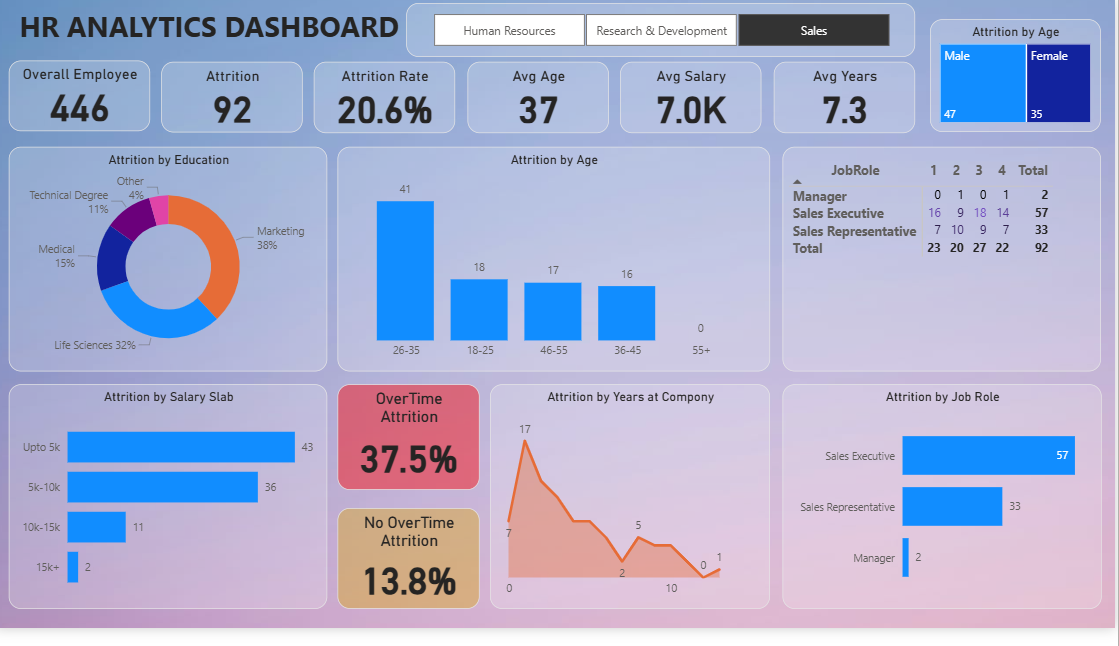

What the dashboard file says about the page in this screenshot:
{"tool":"powerbi","page":{"name":"Page 1","canvas":[1280,720],"ordinal":0},"visuals":[{"type":"card","title":"Overall Employee","fields":{"Values":["Count(HR_Analytics.EmpID)"]},"box":[15.8,71.6,161.9,81],"z":0},{"type":"card","title":"Attrition","fields":{"Values":["Sum(HR_Analytics.Attrition Count)"]},"box":[190.1,72.9,161.9,81],"z":1000},{"type":"card","title":"Attrition Rate","fields":{"Values":["HR_Analytics.AttritionRate"]},"box":[365,72.7,161.9,81.2],"z":2000},{"type":"card","title":"Avg Age","fields":{"Values":["Avg(HR_Analytics.Age)"]},"box":[540.6,72.7,161.9,81.2],"z":3000},{"type":"card","title":"Avg Salary","fields":{"Values":["Avg(HR_Analytics.MonthlyIncome)"]},"box":[715,72.7,161.9,81.2],"z":4000},{"type":"card","title":"Avg Years","fields":{"Values":["Avg(HR_Analytics.YearsAtCompany)"]},"box":[890,72.7,161.9,81.2],"z":5000},{"type":"donutChart","title":"Attrition by Education","fields":{"Category":["HR_Analytics.EducationField"],"Y":["Sum(HR_Analytics.Attrition Count)"]},"box":[15.7,170,364.3,257.1],"z":6000},{"type":"columnChart","title":"Attrition by Age","fields":{"Category":["HR_Analytics.AgeGroup"],"Y":["Sum(HR_Analytics.Attrition Count)"]},"box":[391.4,170,494.3,257.1],"z":7000},{"type":"pivotTable","fields":{"Rows":["HR_Analytics.JobRole"],"Columns":["HR_Analytics.JobSatisfaction"],"Values":["Sum(HR_Analytics.Attrition Count)"]},"box":[900.2,170.2,363.6,256.6],"z":8000},{"type":"barChart","title":"Attrition by Salary Slab","fields":{"Category":["HR_Analytics.SalarySlab"],"Y":["Sum(HR_Analytics.Attrition Count)"]},"box":[15.7,441.4,364.3,257.1],"z":9000},{"type":"clusteredBarChart","title":"Attrition by Job Role","fields":{"Category":["HR_Analytics.JobRole"],"Y":["Sum(HR_Analytics.Attrition Count)"]},"box":[900.2,441.9,365,256.6],"z":10000},{"type":"areaChart","title":"Attrition by Years at Compony","fields":{"Category":["HR_Analytics.YearsAtCompany"],"Y":["Sum(HR_Analytics.Attrition Count)"]},"box":[565.1,441.8,320.1,256.7],"z":11000},{"type":"treemap","title":"Attrition by Age","fields":{"Group":["HR_Analytics.Gender"],"Values":["Sum(HR_Analytics.Attrition Count)"]},"box":[1069,24.7,194.9,129],"z":12000},{"type":"slicer","fields":{"Values":["HR_Analytics.Department"]},"box":[472.9,17.1,581.4,47.1],"z":13000},{"type":"textbox","box":[15.7,17.1,464.3,71.4],"z":14000},{"type":"card","title":"No OverTime Attrition","fields":{"Values":["HR_Analytics.Attrition Rate (OverTime No)"]},"box":[391.5,583.1,162.3,115.4],"z":15000},{"type":"card","title":"OverTime  Attrition","fields":{"Values":["HR_Analytics.Attrition Rate (OverTime Yes)"]},"box":[391.5,441.5,162.3,120.8],"z":16000}]}

Visuals, with their boxes in screenshot pixels (x1, y1, x2, y2), scaled from the page's 1280x720 canvas onto the 1119x646 screenshot:
"Overall Employee" card: <bbox>14, 64, 155, 137</bbox>
"Attrition" card: <bbox>166, 65, 308, 138</bbox>
"Attrition Rate" card: <bbox>319, 65, 461, 138</bbox>
"Avg Age" card: <bbox>473, 65, 614, 138</bbox>
"Avg Salary" card: <bbox>625, 65, 767, 138</bbox>
"Avg Years" card: <bbox>778, 65, 920, 138</bbox>
"Attrition by Education" donutChart: <bbox>14, 153, 332, 383</bbox>
"Attrition by Age" columnChart: <bbox>342, 153, 774, 383</bbox>
pivotTable - HR_Analytics.JobRole x HR_Analytics.JobSatisfaction: <bbox>787, 153, 1105, 383</bbox>
"Attrition by Salary Slab" barChart: <bbox>14, 396, 332, 627</bbox>
"Attrition by Job Role" clusteredBarChart: <bbox>787, 396, 1106, 627</bbox>
"Attrition by Years at Compony" areaChart: <bbox>494, 396, 774, 627</bbox>
"Attrition by Age" treemap: <bbox>935, 22, 1105, 138</bbox>
slicer - HR_Analytics.Department: <bbox>413, 15, 922, 58</bbox>
textbox: <bbox>14, 15, 420, 79</bbox>
"No OverTime Attrition" card: <bbox>342, 523, 484, 627</bbox>
"OverTime  Attrition" card: <bbox>342, 396, 484, 505</bbox>
